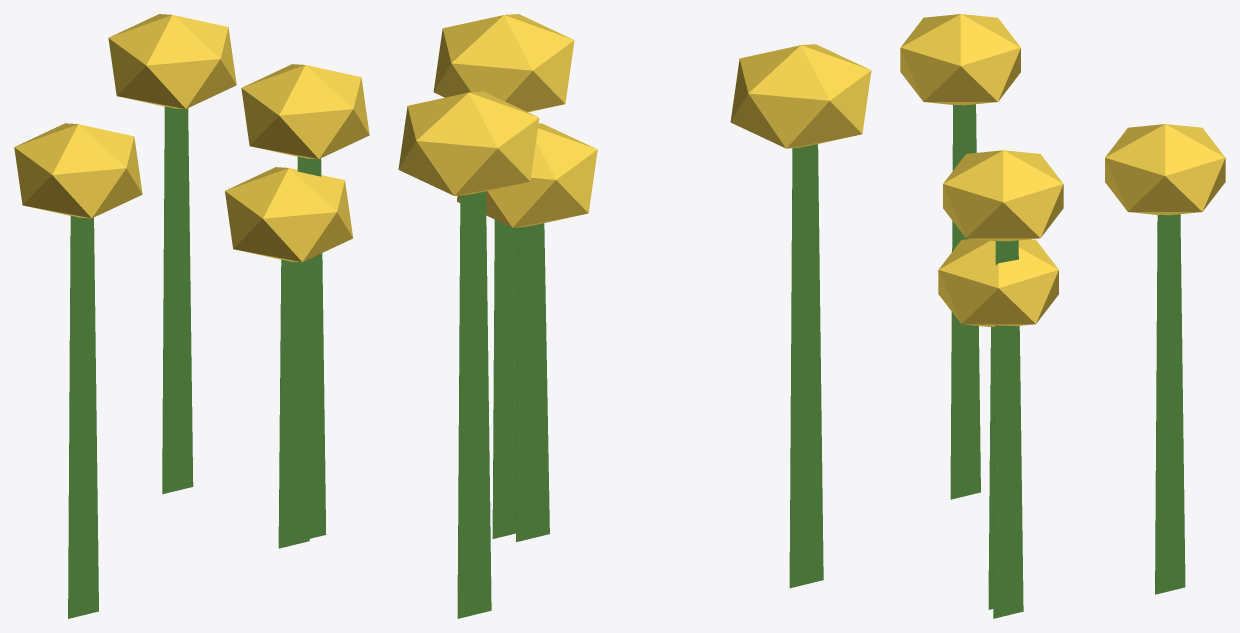
Rendered from Flowers_B.glb.
3 renders of one model, left to right at view 1: azimuth 30°, elevation 25°; view 2: azimuth 150°, elevation 25°; view 3: azimuth 270°, elevation 25°, orthographic. The views are drawn at different scales.
Parts seen in each view (by area): view 1: Flowers_B; view 2: Flowers_B; view 3: Flowers_B.
Part boxes in pixels (left/top/right/bottom): Flowers_B: left=14, top=14, right=369, bottom=618; Flowers_B: left=398, top=14, right=871, bottom=618; Flowers_B: left=900, top=14, right=1225, bottom=618.
Bounding box in the file's own units: 0.4038 × 0.5214 × 0.321.
